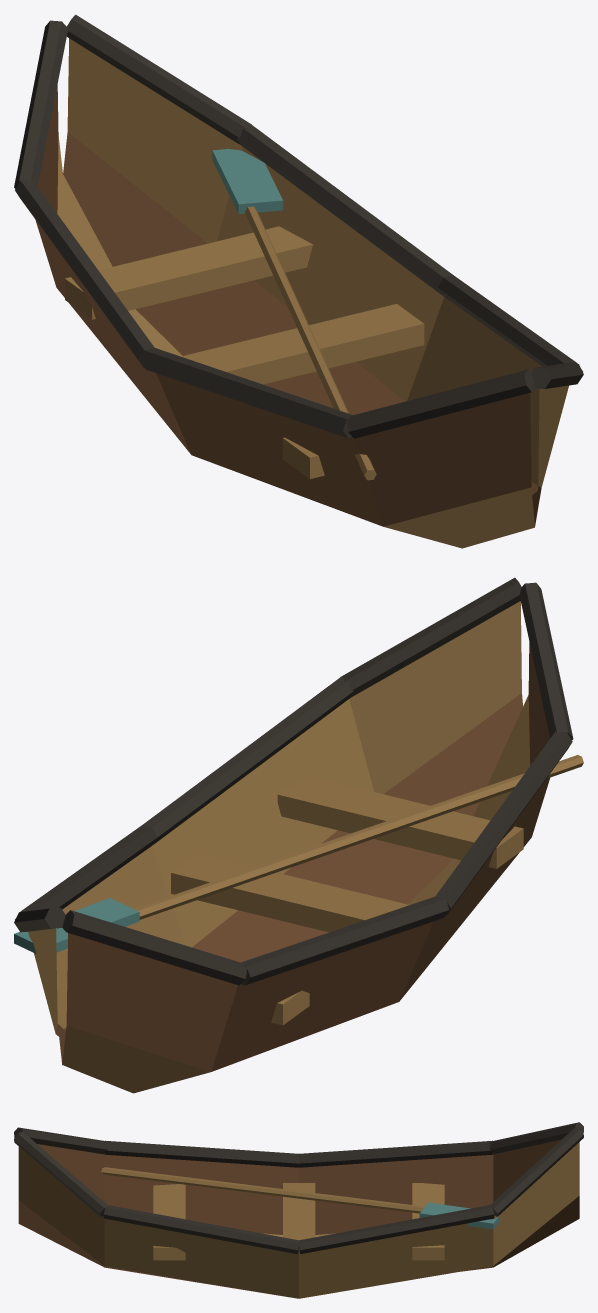
The model's file is meadow_skiff.glb.
The picture shows the model from 3 angles, top to bottom: view 1: azimuth 30°, elevation 25°; view 2: azimuth 150°, elevation 25°; view 3: azimuth 270°, elevation 25°; orthographic projection. The views are drawn at different scales.
Parts seen in each view (by area): view 1: meadow_skiff_body; view 2: meadow_skiff_body; view 3: meadow_skiff_body.
Part boxes in pixels (x1=…): meadow_skiff_body: x1=14, y1=14, x2=583, y2=548; meadow_skiff_body: x1=14, y1=577, x2=583, y2=1093; meadow_skiff_body: x1=14, y1=1122, x2=583, y2=1298.
Bounding box in the file's own units: 2.03 × 1.7 × 5.28.
